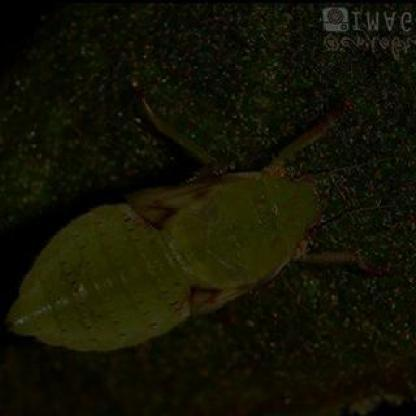green-leafhopper: (16, 154, 326, 352)
